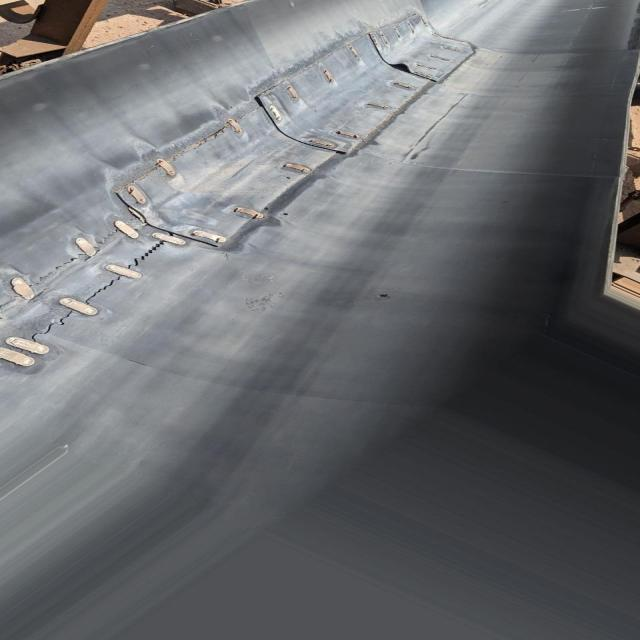patch work: (0, 12, 474, 377)
